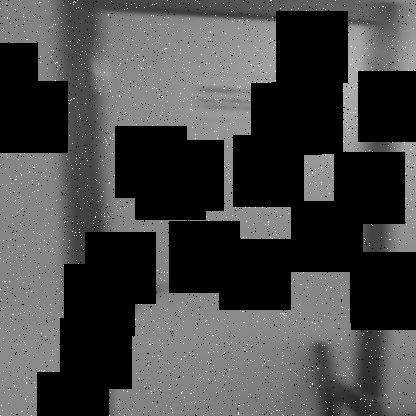Porte: (59, 0, 406, 415)
